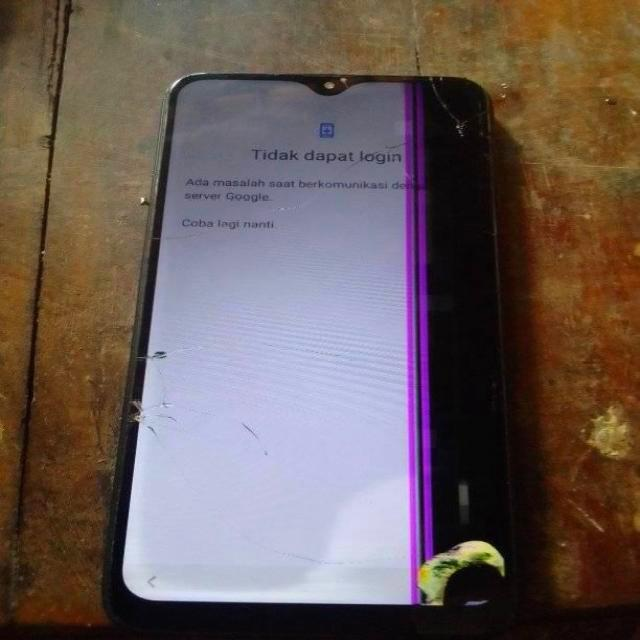phone: (102, 80, 509, 640)
